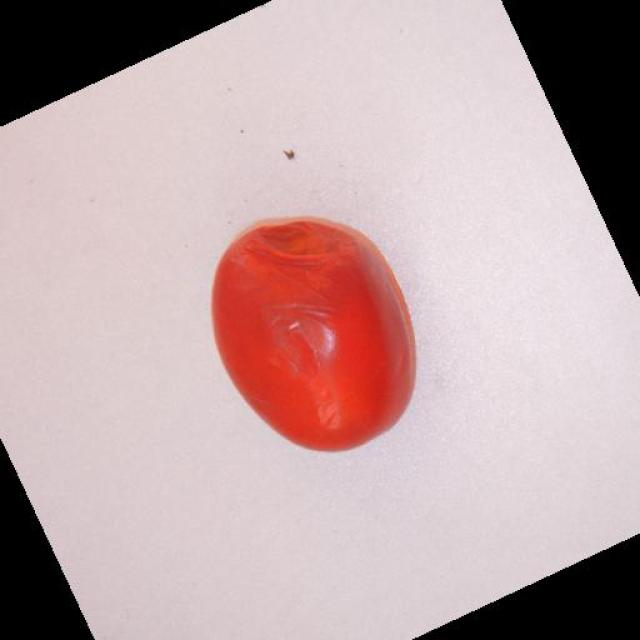Stale_tomato: (219, 216, 374, 296)
